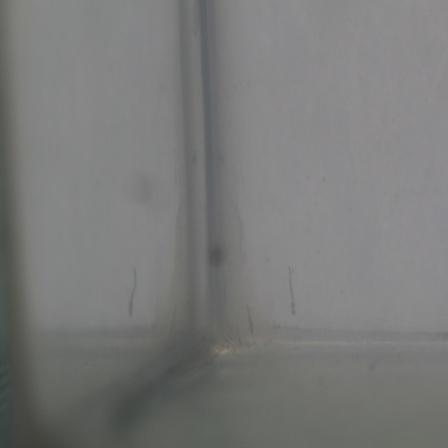Jentik-Nyamuk: (281, 262, 303, 321)
